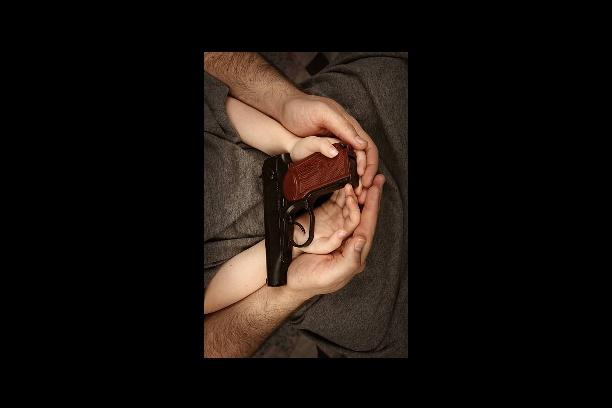weapon: (253, 134, 364, 290)
